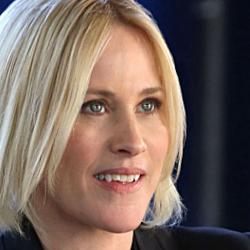face: (1, 1, 200, 237)
